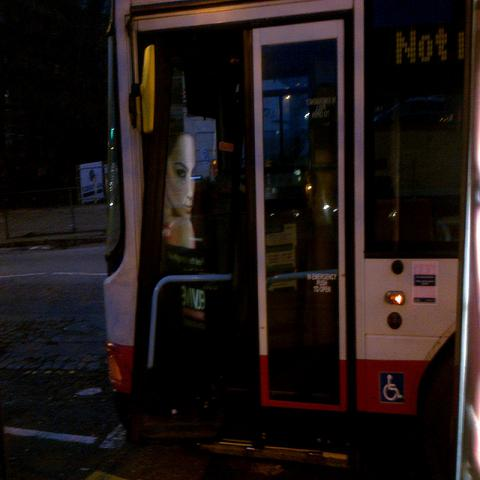bus: (104, 1, 469, 471)
